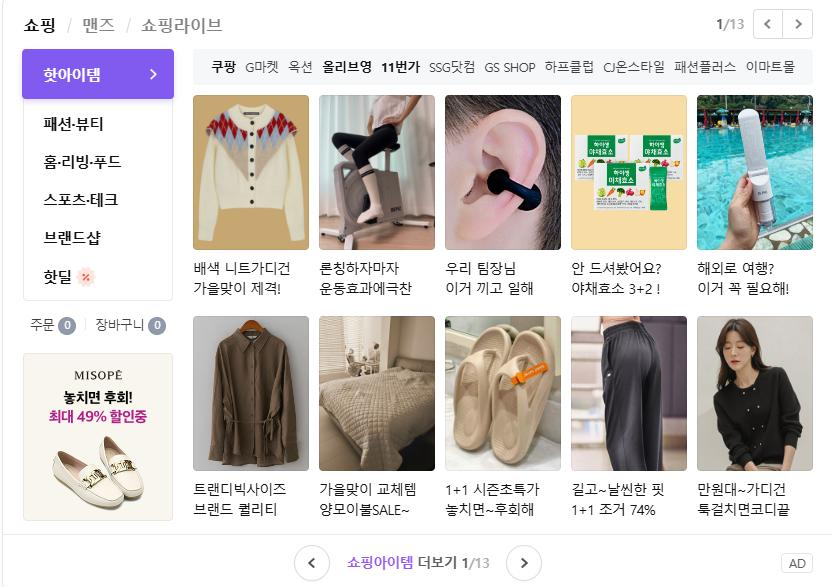button: (21, 47, 173, 97), (24, 143, 176, 185), (23, 100, 175, 142), (24, 185, 176, 217), (24, 222, 176, 253), (23, 262, 163, 293), (139, 13, 225, 41), (672, 57, 742, 79), (506, 543, 543, 582), (293, 545, 331, 581), (601, 58, 667, 78), (482, 58, 542, 78), (744, 57, 801, 77), (323, 58, 377, 78), (547, 58, 597, 78), (379, 57, 427, 77), (18, 16, 59, 38), (785, 10, 814, 40), (79, 15, 120, 36), (244, 54, 281, 77), (204, 57, 239, 80), (284, 57, 319, 79), (429, 61, 477, 77), (754, 11, 779, 38)
popup: (25, 354, 174, 518)
